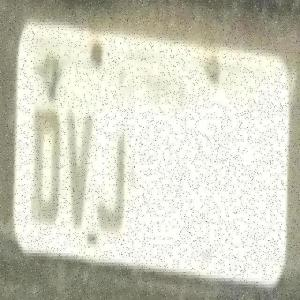Plate: (20, 22, 296, 288)
